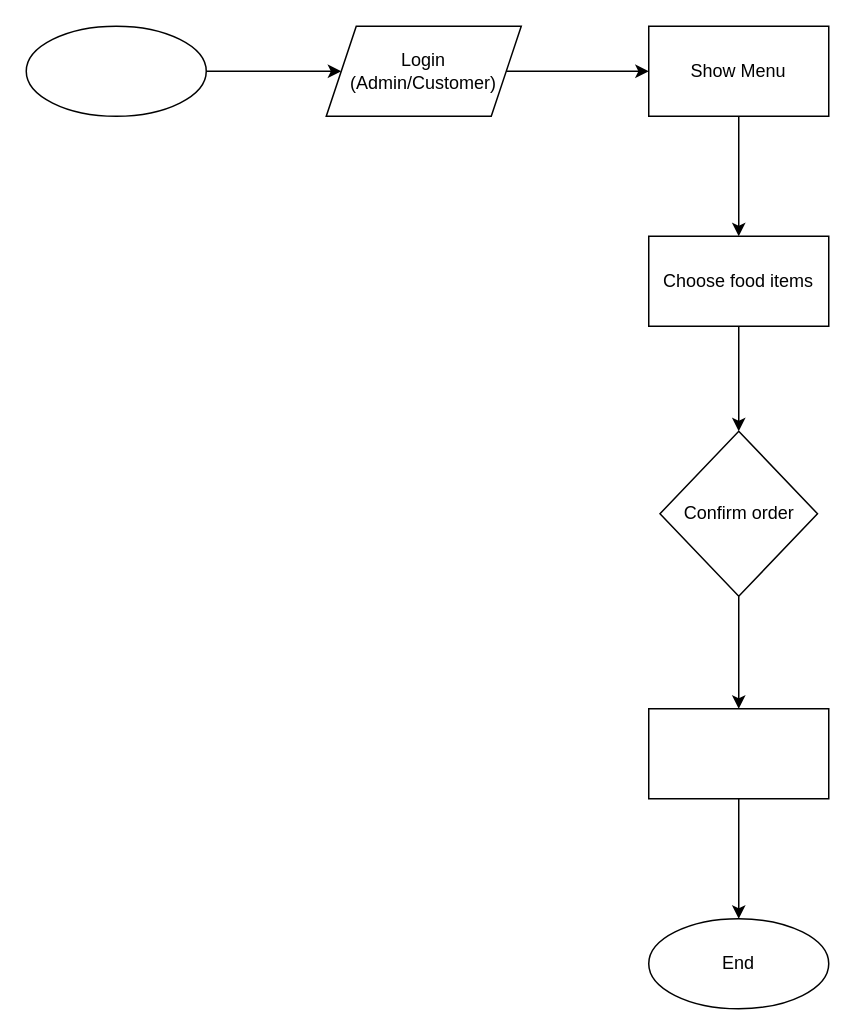
Image size: 855x1035. Some labels were removed from this diagram. The centre of each missing label's shape, as x and y in pixels:
"Print Bill" goes at pixel 738 753.
"Start" goes at pixel 115 70.
